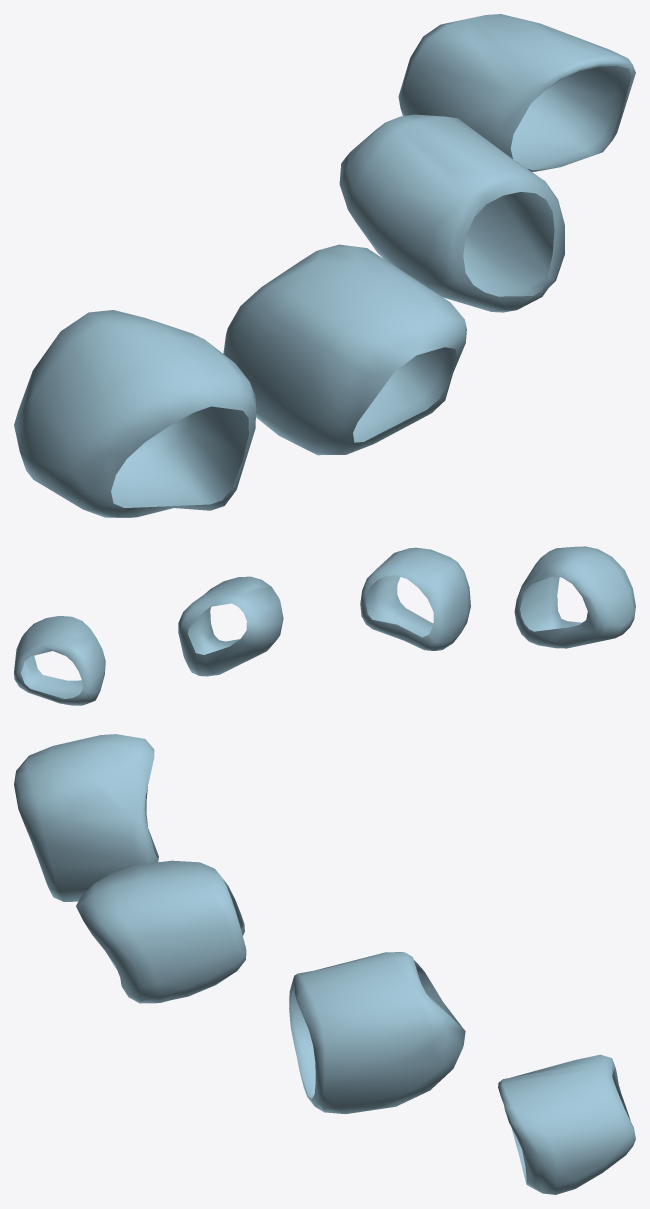
File: articulacoes-articular-capsules-of-proximal-interphalangeal-joints-of-foot-l.glb
The picture shows the model from 3 angles, top to bottom: view 1: azimuth 30°, elevation 25°; view 2: azimuth 150°, elevation 25°; view 3: azimuth 270°, elevation 25°; orthographic projection. The views are drawn at different scales.
Visible parts, largest first — view 1: Articular capsules of proximal interphalangeal joints of foo; view 2: Articular capsules of proximal interphalangeal joints of foo; view 3: Articular capsules of proximal interphalangeal joints of foo.
Part boxes in pixels (x1,y1,x2,y2): Articular capsules of proximal interphalangeal joints of foo: (14, 14, 635, 517); Articular capsules of proximal interphalangeal joints of foo: (14, 546, 635, 705); Articular capsules of proximal interphalangeal joints of foo: (14, 734, 635, 1194).
Bounding box in the file's own units: 0.0517 × 0.0126 × 0.0408.
